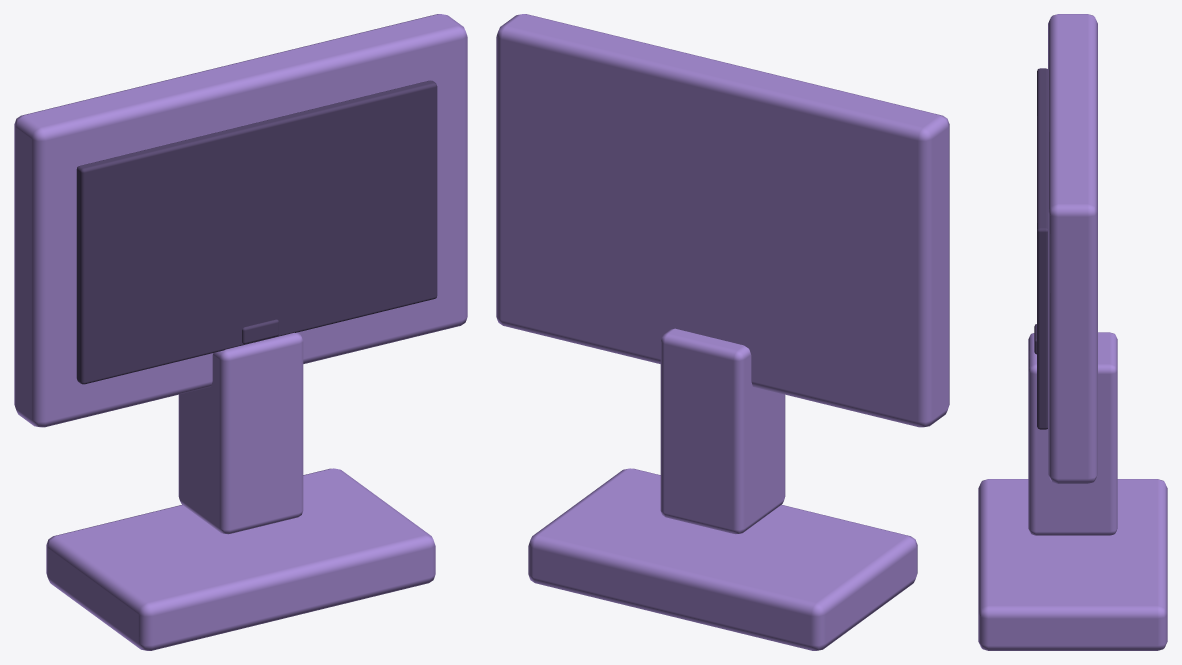
The model's file is office-monitor.glb.
3 renders of one model, left to right at view 1: azimuth 30°, elevation 25°; view 2: azimuth 150°, elevation 25°; view 3: azimuth 270°, elevation 25°, orthographic. The views are drawn at different scales.
Parts seen in each view (by area): view 1: monitor-display, monitor-frame, base, stand, power; view 2: monitor-frame, base, stand; view 3: base, monitor-frame, stand, monitor-display.
Part boxes in pixels (box(x1,y1,x2,y2)): monitor-display: box(76, 80, 437, 384); monitor-frame: box(14, 14, 467, 427); base: box(46, 468, 435, 650); stand: box(178, 332, 303, 534); power: box(242, 319, 278, 343); monitor-frame: box(496, 14, 949, 427); base: box(528, 468, 917, 650); stand: box(660, 328, 785, 534); base: box(978, 479, 1167, 650); monitor-frame: box(1048, 14, 1097, 483); stand: box(1028, 332, 1117, 535); monitor-display: box(1037, 68, 1047, 429).
Size of the model in its own units: 0.94 by 1.06 by 0.38.
